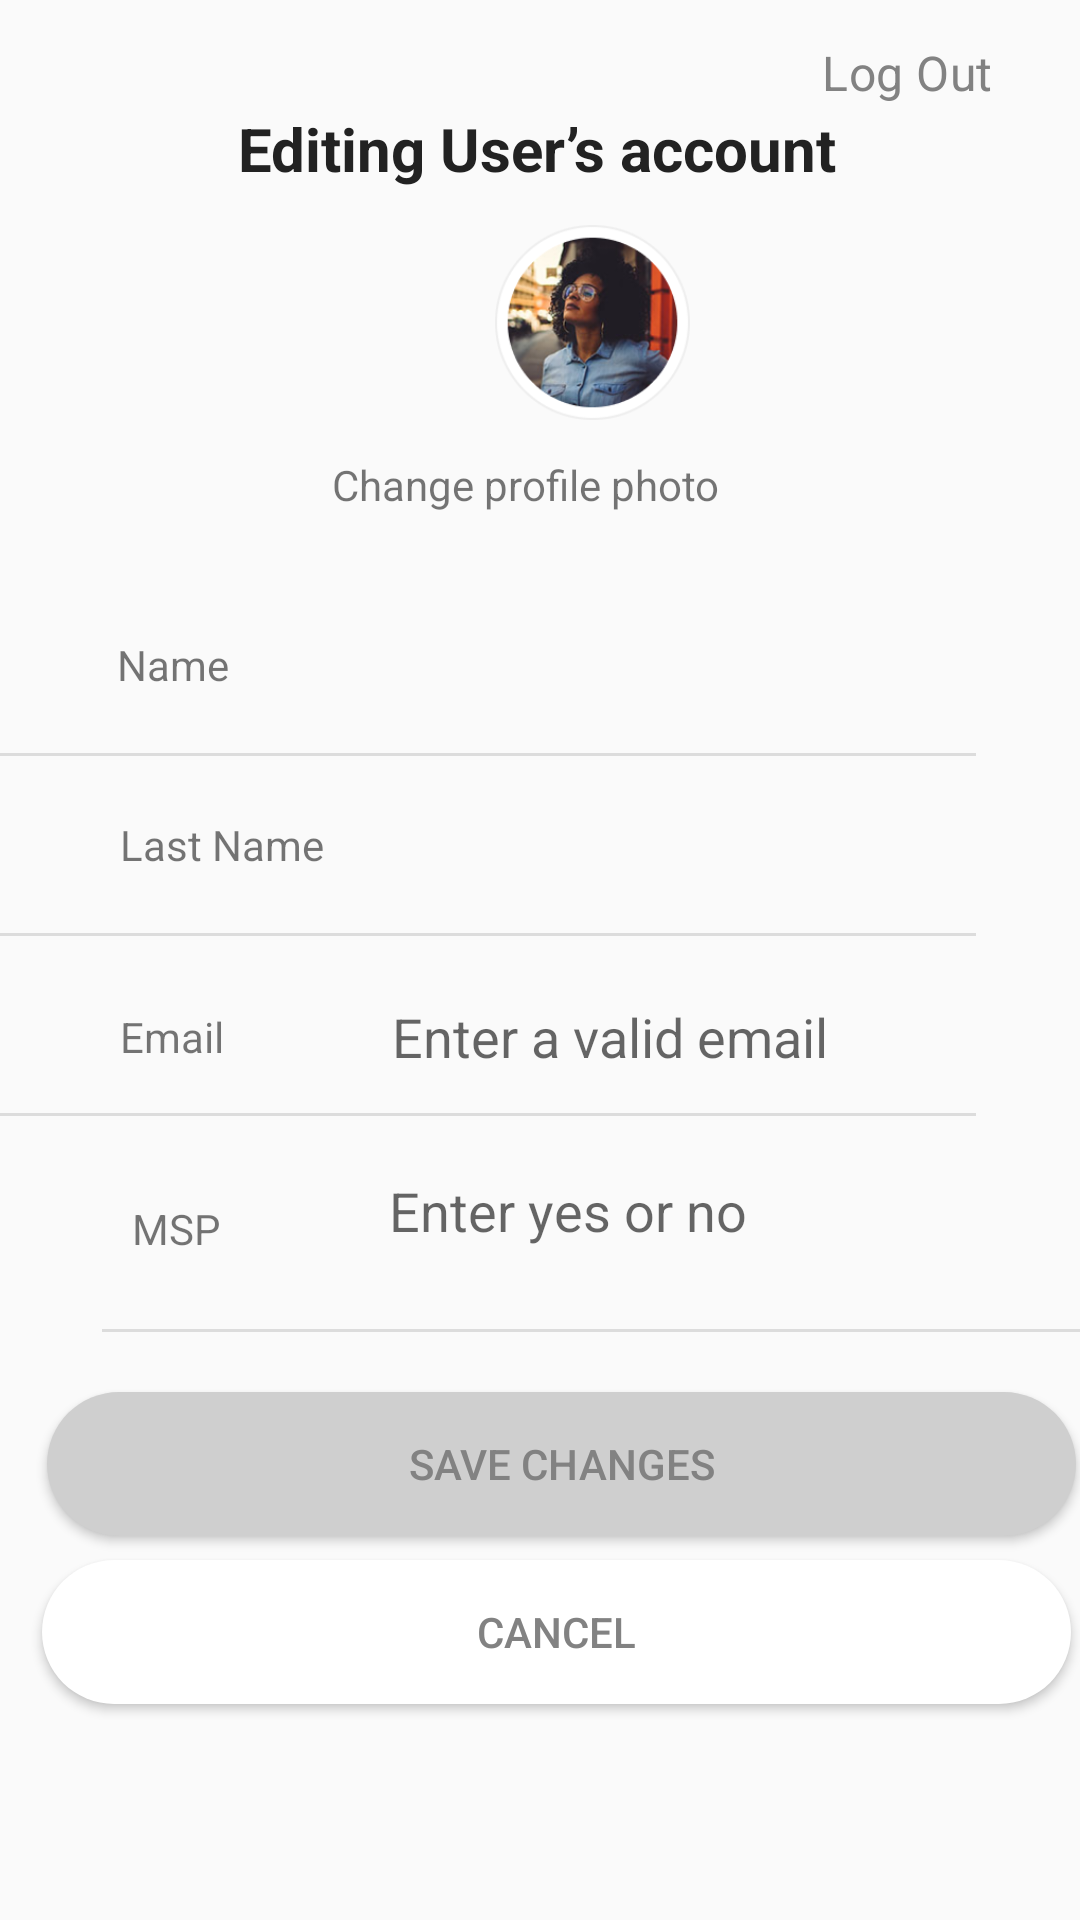

Named icons in this screenshot (1080 x 1920) and their centers, point (x, y):
Avatar Icon: point (592, 322)
